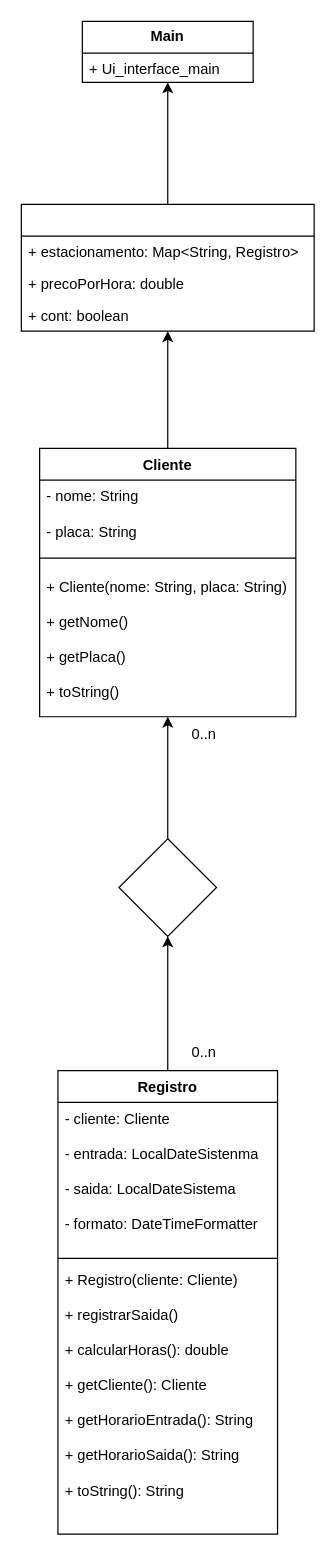
This 336x1559 diagram has some shape labels left out. The box of each missing label's shape, as (x1, y1, x2, y2) in pixels:
Possui: (118, 838, 217, 936)
Ui_interface: (20, 203, 314, 331)
